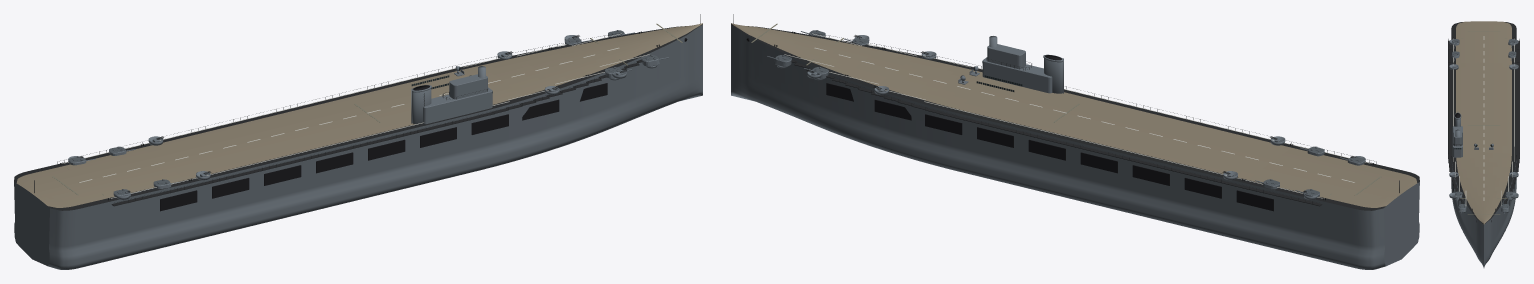
Rendered from yorktown.glb.
3 views of the same model, side by side, from view 1: azimuth 30°, elevation 25°; view 2: azimuth 150°, elevation 25°; view 3: azimuth 270°, elevation 25° (orthographic). The views are drawn at different scales.
Parts seen in each view (by area): view 1: yorktown; view 2: yorktown; view 3: yorktown, T_7_malla, T_6_malla, T_4_malla, T_5_malla, T_2_malla, T_3_malla.
Part boxes in pixels (x1,y1,x2,y2): yorktown: (14,14,702,269); yorktown: (731,14,1419,269); yorktown: (1448,21,1519,267); T_7_malla: (1501,204,1509,212); T_6_malla: (1458,204,1466,212); T_4_malla: (1455,191,1462,199); T_5_malla: (1505,191,1513,199); T_2_malla: (1451,51,1459,58); T_3_malla: (1508,51,1516,58).
Size of the model in its own units: 251 by 36.51 by 36.8.
